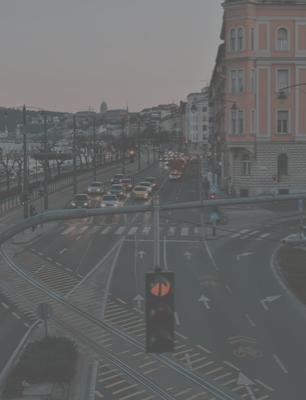International Road Signal Light: (144, 271, 175, 353)
